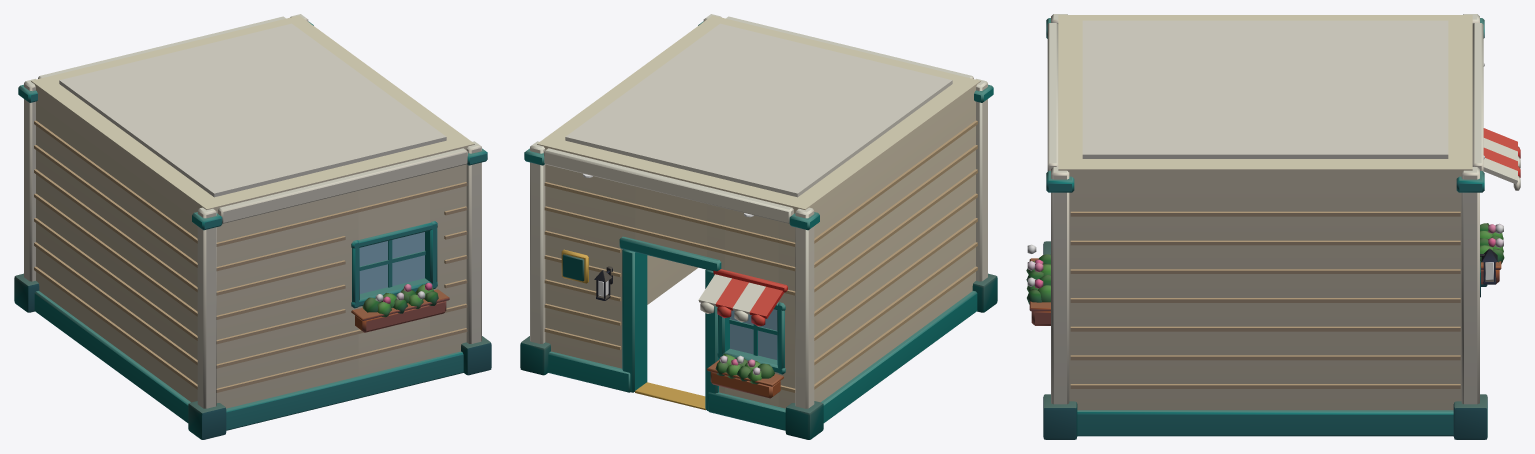
The model's file is RoomV2.fbx.
3 renders of one model, left to right at view 1: azimuth 30°, elevation 25°; view 2: azimuth 150°, elevation 25°; view 3: azimuth 270°, elevation 25°, orthographic. The views are drawn at different scales.
Parts seen in each view (by area): view 1: SM_Bld_RoomV2_Walls, SM_Bld_RoomV2_Trim, SM_Bld_RoomV2_Flowers, SM_Bld_RoomV2_Glass; view 2: SM_Bld_RoomV2_Walls, SM_Bld_RoomV2_Trim, SM_Bld_RoomV2_Awning, SM_Bld_RoomV2_Flowers, SM_Bld_RoomV2_Glass; view 3: SM_Bld_RoomV2_Walls, SM_Bld_RoomV2_Trim, SM_Bld_RoomV2_Flowers, SM_Bld_RoomV2_Awning.
Part boxes in pixels (<box>): SM_Bld_RoomV2_Walls: <box>31,15,474,408</box>; SM_Bld_RoomV2_Trim: <box>14,14,491,439</box>; SM_Bld_RoomV2_Flowers: <box>351,282,449,332</box>; SM_Bld_RoomV2_Glass: <box>359,232,424,293</box>; SM_Bld_RoomV2_Walls: <box>537,15,980,408</box>; SM_Bld_RoomV2_Trim: <box>520,14,997,439</box>; SM_Bld_RoomV2_Awning: <box>698,269,787,326</box>; SM_Bld_RoomV2_Flowers: <box>707,353,783,398</box>; SM_Bld_RoomV2_Glass: <box>730,309,777,359</box>; SM_Bld_RoomV2_Walls: <box>1058,15,1472,410</box>; SM_Bld_RoomV2_Trim: <box>1043,14,1497,439</box>; SM_Bld_RoomV2_Flowers: <box>1026,223,1504,325</box>; SM_Bld_RoomV2_Awning: <box>1483,128,1520,190</box>.
Bounding box in the file's own units: 16.24 × 12.2 × 20.29.
